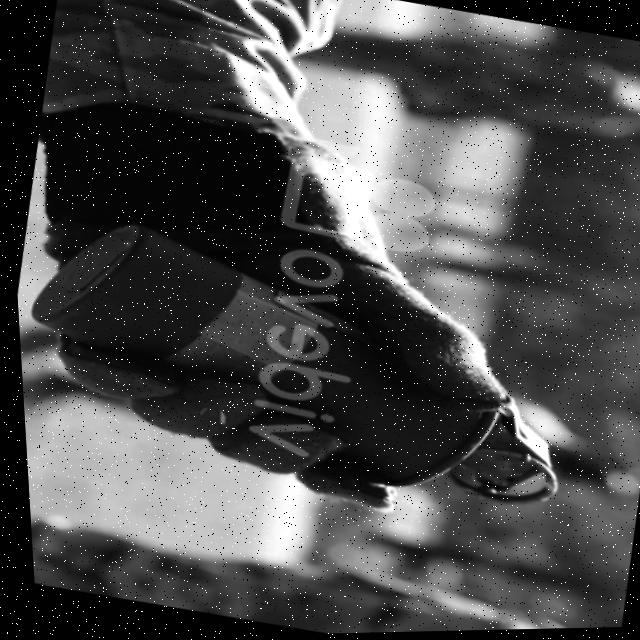grenade: (10, 194, 594, 546)
